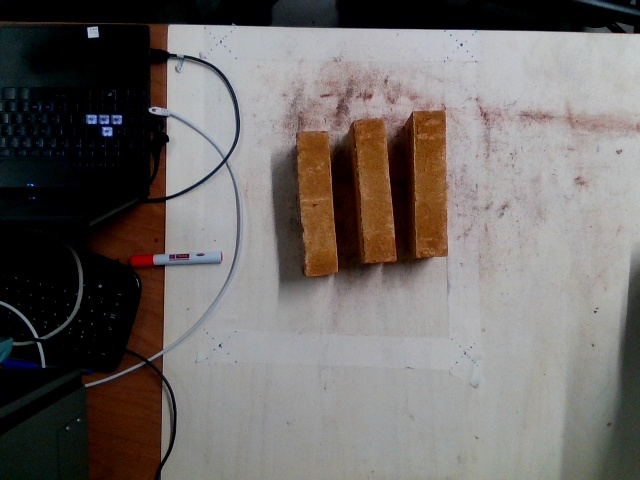brick-side: (354, 120, 395, 263), (297, 131, 334, 273), (414, 114, 444, 255)
